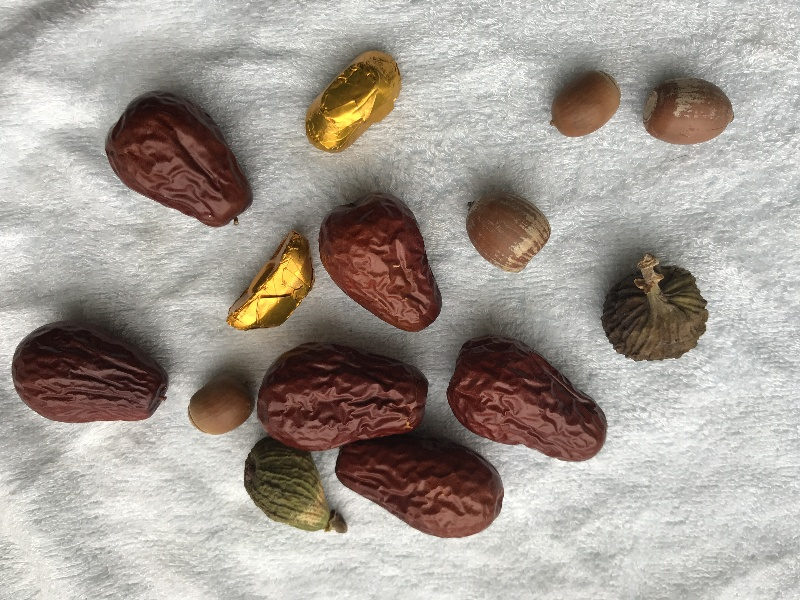date: (446, 335, 608, 465), (106, 91, 256, 229), (259, 340, 431, 449), (315, 192, 446, 332), (332, 437, 505, 542), (12, 322, 170, 424)
fig: (607, 255, 709, 361), (245, 440, 352, 535)
hazelnut: (461, 194, 552, 273), (638, 79, 736, 143), (549, 70, 618, 134), (187, 378, 256, 434)
